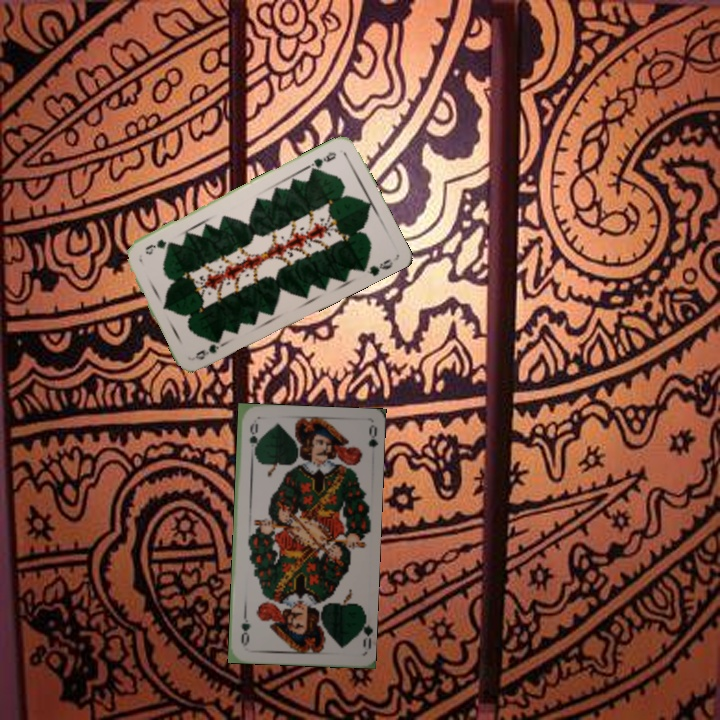G9: (191, 334, 224, 363), (304, 148, 339, 174)
GO: (353, 611, 373, 651), (245, 418, 260, 459)
